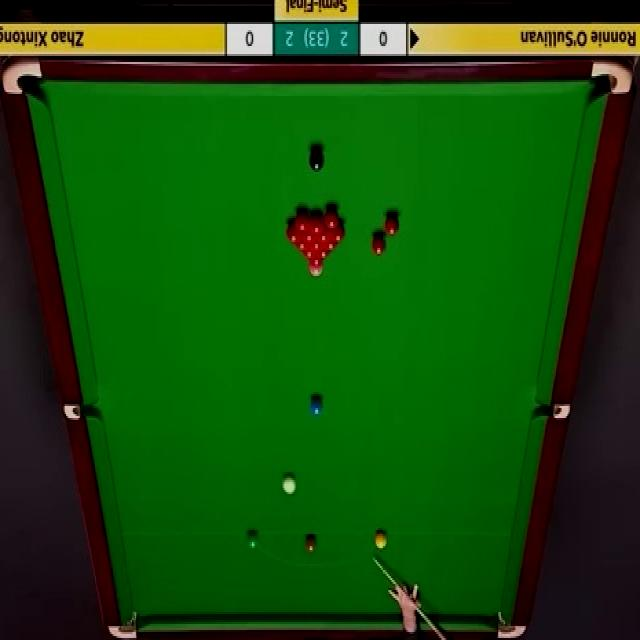black-ball: (309, 147, 325, 174)
blue-ball: (309, 394, 322, 416)
brown-ball: (305, 534, 317, 551)
green-ball: (247, 530, 258, 550)
pink-ball: (308, 264, 324, 280)
red-ball: (368, 232, 388, 258), (309, 212, 325, 236), (293, 212, 309, 234), (324, 205, 339, 228), (285, 224, 302, 244), (330, 223, 346, 244), (385, 215, 400, 237), (316, 228, 331, 243), (302, 225, 315, 242), (300, 248, 318, 258), (293, 240, 309, 251), (308, 258, 325, 268), (308, 240, 324, 250), (317, 249, 333, 258), (324, 239, 337, 250)
white-ball: (282, 472, 297, 497)
yellow-ball: (373, 530, 388, 551)
